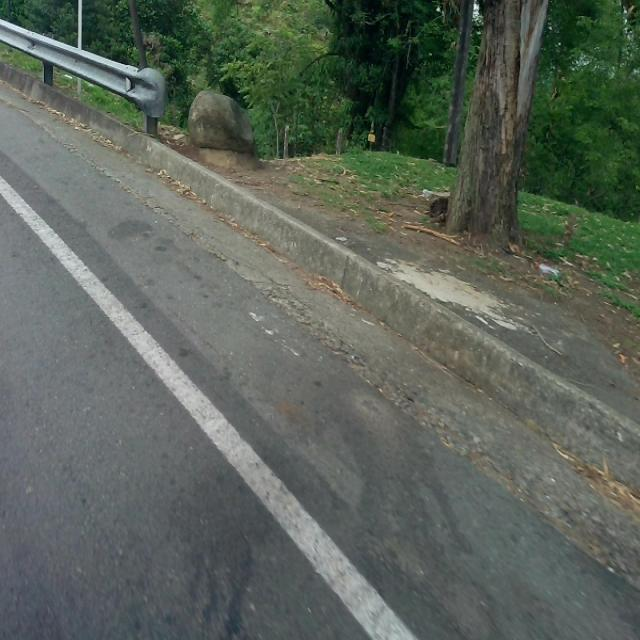DITCH: (1, 68, 638, 638), (1, 69, 638, 637)
